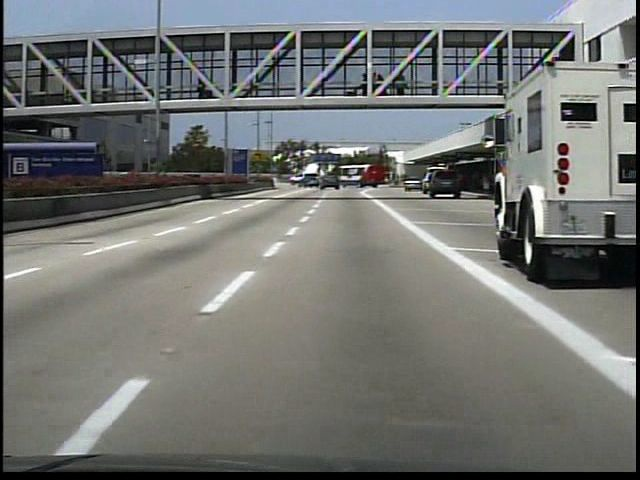person: (481, 173, 491, 199)
